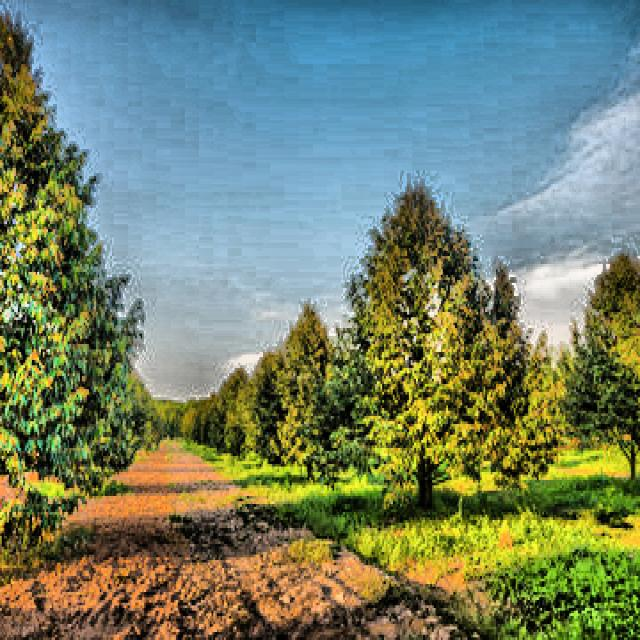arvore: (405, 384, 444, 511)
